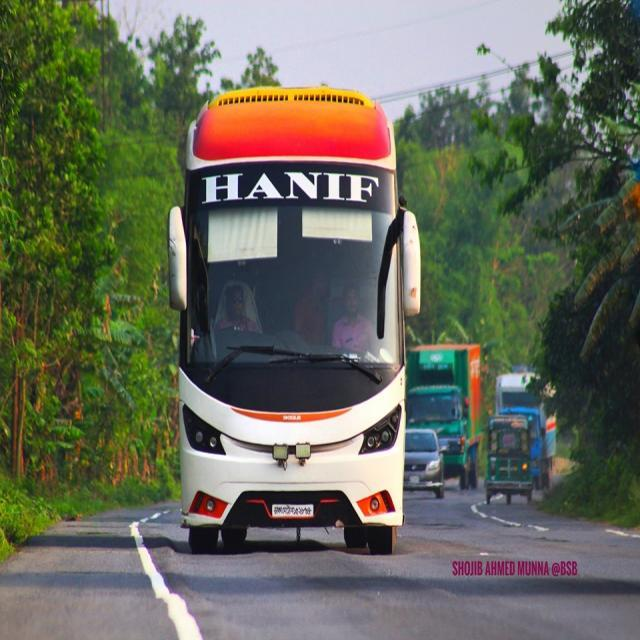bus: (167, 85, 425, 556)
